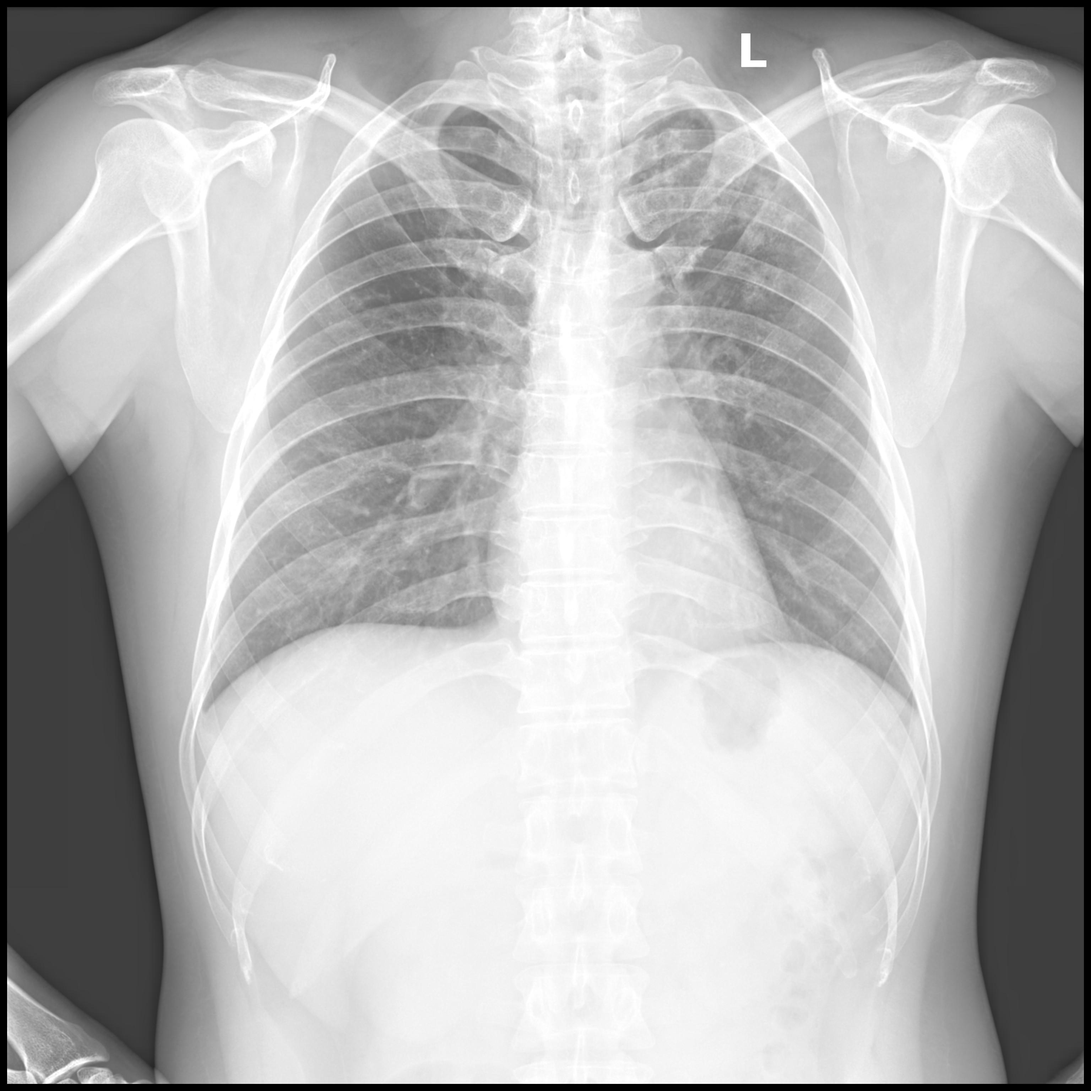Pulmonary fibrosis: (629, 121, 816, 311), (374, 162, 423, 232)
